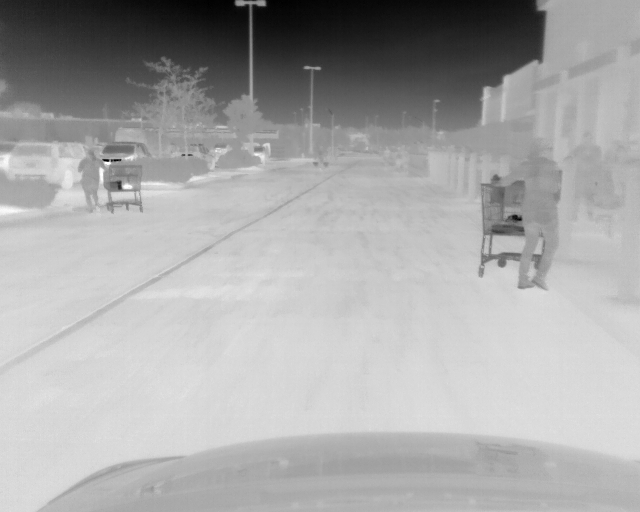car: (7, 137, 89, 188), (97, 140, 151, 167), (169, 143, 214, 170), (247, 142, 272, 167), (1, 139, 16, 175), (210, 142, 233, 158)
people: (495, 138, 567, 293), (566, 133, 605, 220), (77, 149, 107, 211)
